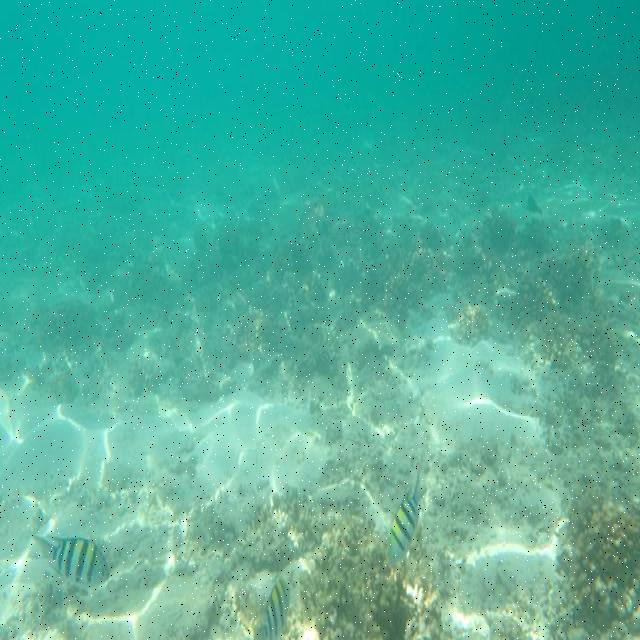aquatic plants: (565, 502, 639, 592)
fish: (35, 533, 103, 584), (391, 476, 427, 565), (255, 580, 300, 636)
